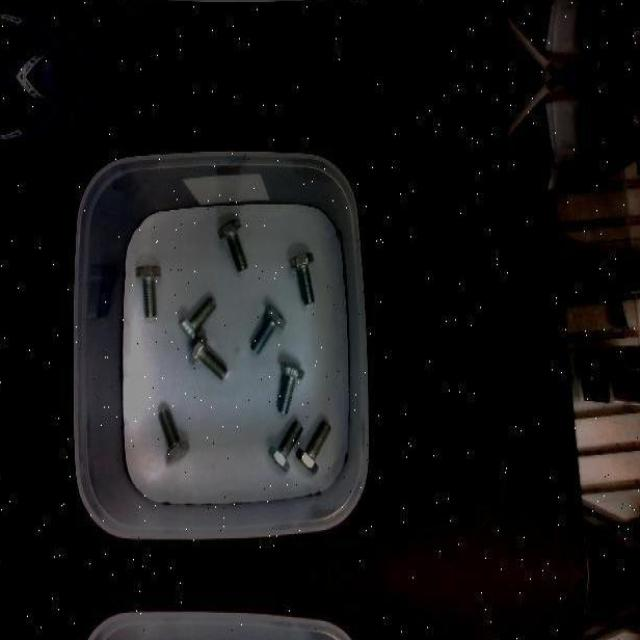screw: (269, 418, 305, 472), (296, 418, 332, 472), (250, 302, 287, 354), (189, 335, 229, 380), (158, 408, 190, 464), (179, 296, 217, 343), (218, 218, 248, 272), (278, 362, 306, 413), (290, 251, 316, 304), (135, 265, 161, 316)
